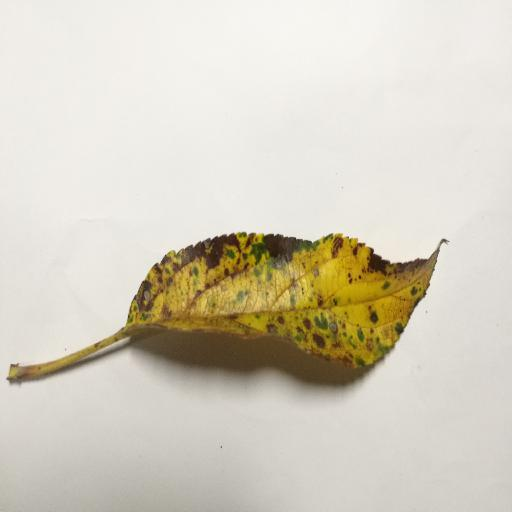Brown_Spot: (147, 251, 403, 348)
